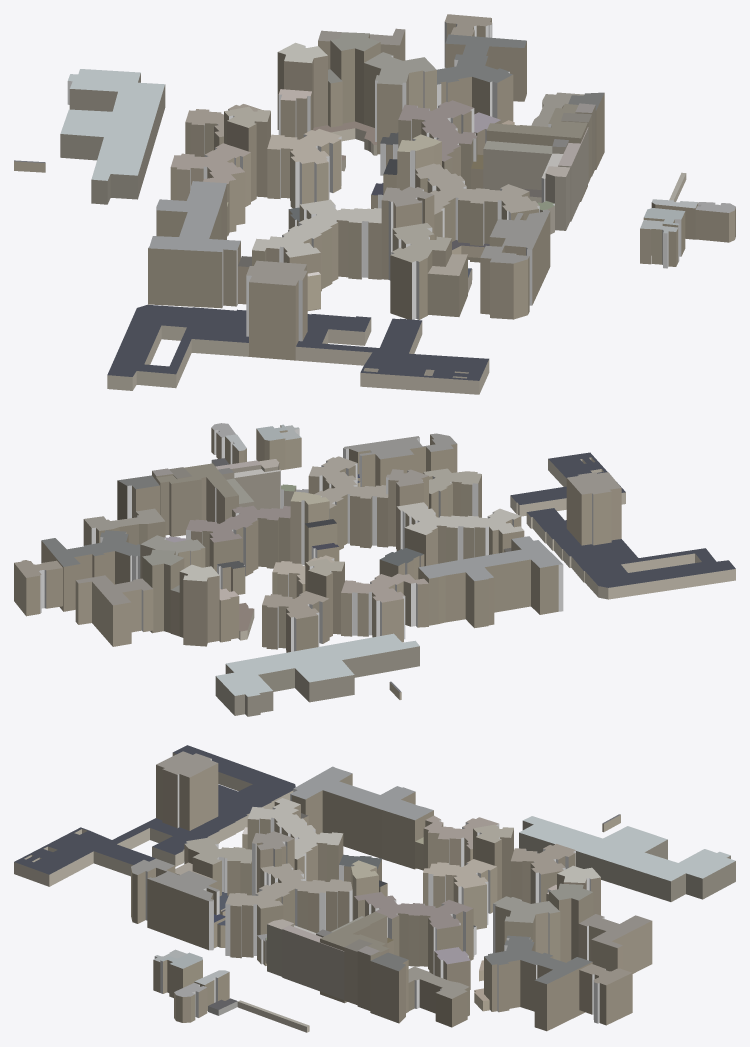
3 views of the same model, one above another, from view 1: azimuth 30°, elevation 25°; view 2: azimuth 150°, elevation 25°; view 3: azimuth 270°, elevation 25° (orthographic). The views are drawn at different scales.
Visible parts, largest first — view 1: tuile; view 2: tuile; view 3: tuile.
Part boxes in pixels (x1,y1,x2,y2): tuile: (14, 14, 735, 394); tuile: (14, 423, 735, 716); tuile: (14, 745, 735, 1032).
Bounding box in the file's own units: 346 × 43.47 × 382.
